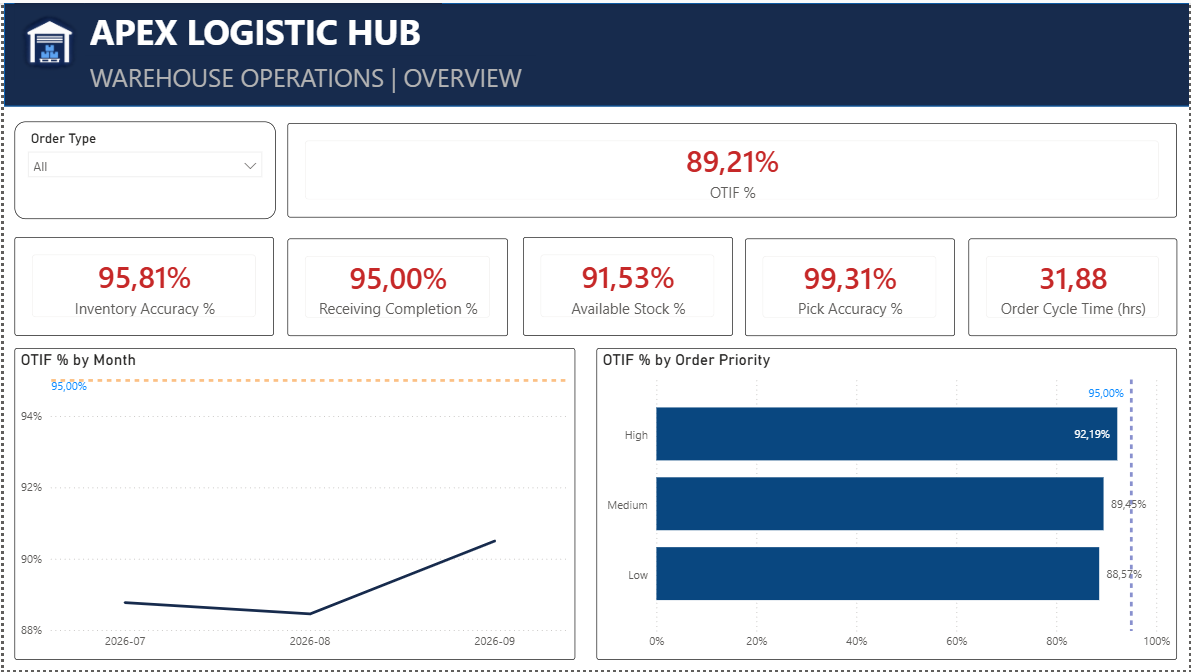

What the dashboard file says about the page in this screenshot:
{"tool":"powerbi","page":{"name":"Overview","canvas":[1280,720],"ordinal":0},"visuals":[{"type":"cardVisual","fields":{"Data":["_Measures.OTIF %"]},"box":[306,129.5,960.2,102],"z":0},{"type":"cardVisual","fields":{"Data":["_Measures.Receiving Completion %"]},"box":[306,254.2,238,105.2],"z":1000},{"type":"cardVisual","fields":{"Data":["_Measures.Available Stock %"]},"box":[560.3,252.6,226.7,106.9],"z":2000},{"type":"cardVisual","fields":{"Data":["_Measures.Pick Accuracy %"]},"box":[799.9,254.2,226.7,105.2],"z":3000},{"type":"shape","box":[0,0,1280.8,111.7],"z":6000},{"type":"textbox","box":[87.4,0,385.4,69.6],"z":7000},{"type":"textbox","box":[87.4,56.7,487.4,45.3],"z":8000},{"type":"image","box":[11.3,0,76.1,82.6],"z":9000},{"type":"slicer","fields":{"Values":["dw fact_orders.order_type"]},"box":[11.3,127.9,281.7,105.2],"z":10000},{"type":"lineChart","title":"OTIF % by Month","fields":{"Category":["dw dim_date.year_month"],"Y":["_Measures.OTIF %"]},"box":[11.3,372.4,605.6,336.8],"z":11000},{"type":"clusteredBarChart","title":"OTIF % by Order Priority","fields":{"Category":["dw fact_orders.priority"],"Y":["_Measures.OTIF %"]},"box":[639.6,372.4,626.6,336.8],"z":12000},{"type":"cardVisual","fields":{"Data":["_Measures.Inventory Accuracy %"]},"box":[11.3,252.6,280.1,106.9],"z":12001},{"type":"cardVisual","fields":{"Data":["_Measures.Order Cycle Time (hrs)"]},"box":[1041.2,254.2,225.1,105.2],"z":12002}]}

Visuals, with their boxes in screenshot pixels (x1, y1, x2, y2), scaled from the page's 1280x720 canvas onto the 1191x672 screenshot:
cardVisual - _Measures.OTIF %: (285,121,1178,216)
cardVisual - _Measures.Receiving Completion %: (285,237,506,335)
cardVisual - _Measures.Available Stock %: (521,236,732,336)
cardVisual - _Measures.Pick Accuracy %: (744,237,955,335)
shape: (0,0,1190,104)
textbox: (81,0,440,65)
textbox: (81,53,535,95)
image: (11,0,81,77)
slicer - dw fact_orders.order_type: (11,119,273,218)
"OTIF % by Month" lineChart: (11,348,574,662)
"OTIF % by Order Priority" clusteredBarChart: (595,348,1178,662)
cardVisual - _Measures.Inventory Accuracy %: (11,236,271,336)
cardVisual - _Measures.Order Cycle Time (hrs): (969,237,1178,335)
